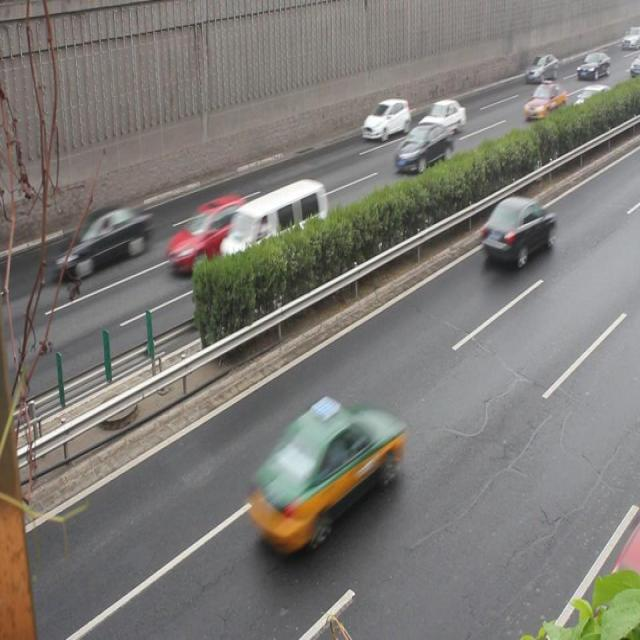car: (247, 399, 403, 549), (56, 204, 151, 277), (165, 196, 250, 272), (479, 195, 553, 267), (392, 122, 452, 172), (362, 98, 409, 142), (416, 98, 465, 138), (522, 81, 565, 122), (568, 84, 611, 125), (524, 52, 557, 84)
truck: (220, 179, 326, 276)
